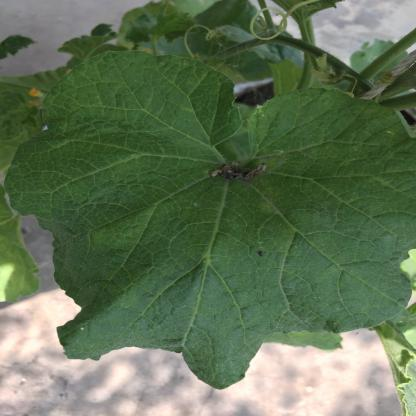Normal: (4, 49, 416, 390)
